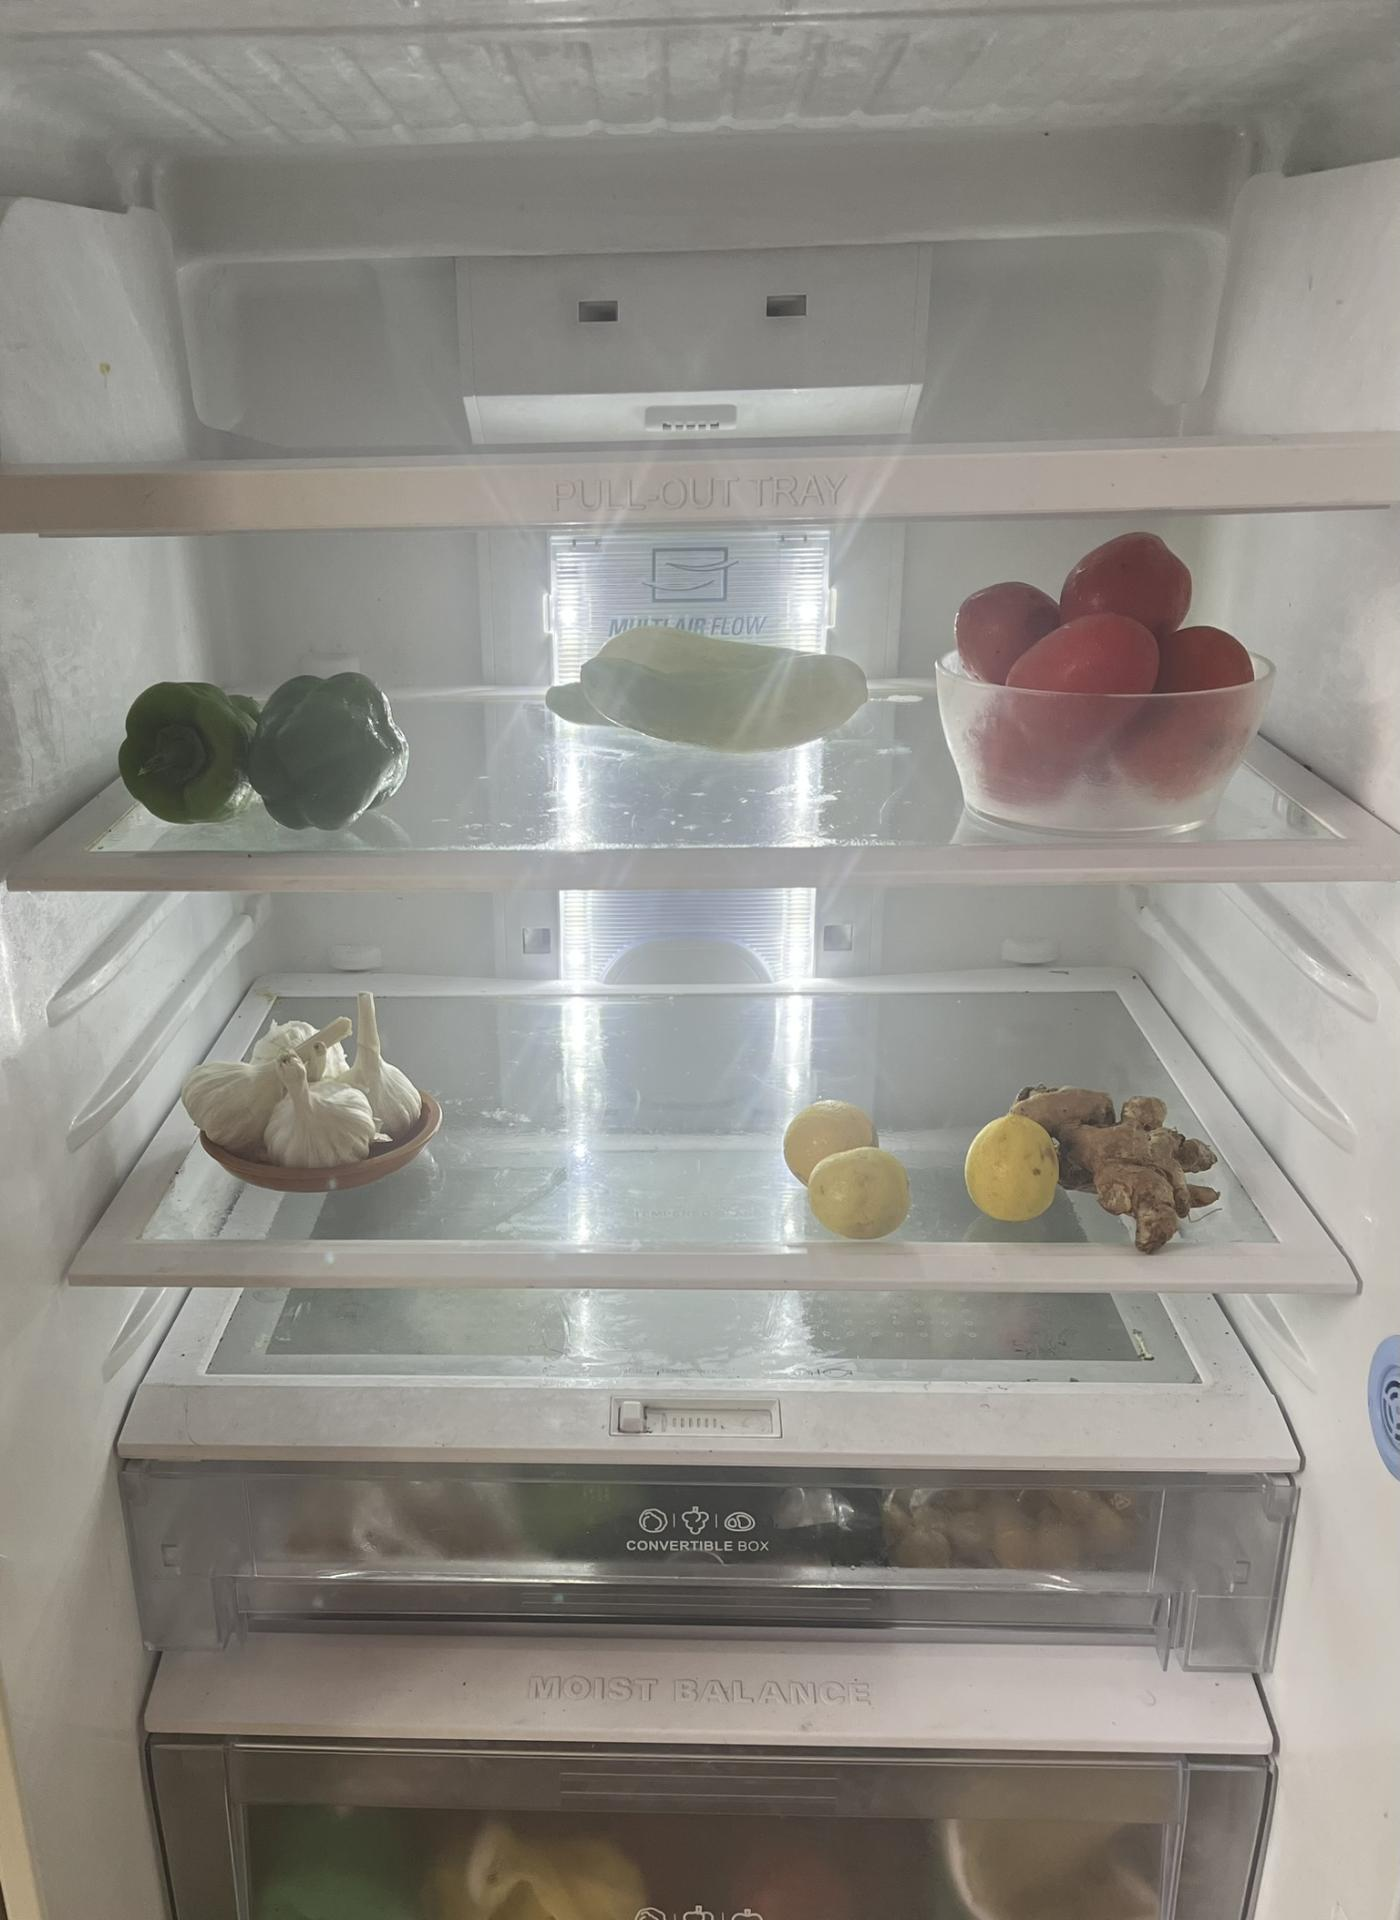capsicum: (115, 669, 414, 841)
cucumber: (541, 619, 872, 751)
garlic: (188, 996, 417, 1172)
ginger: (1014, 1084, 1224, 1242)
lemon: (786, 1094, 912, 1237), (965, 1115, 1062, 1215)
tomato: (965, 528, 1255, 799)
